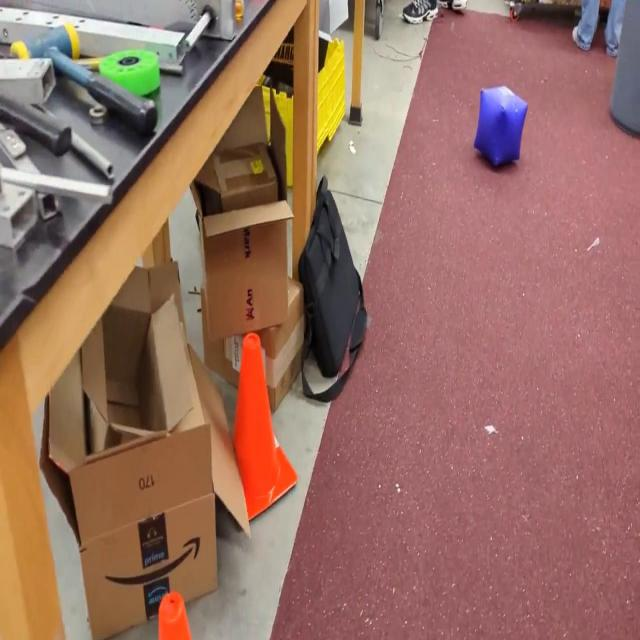frc_cube: (473, 84, 531, 169)
